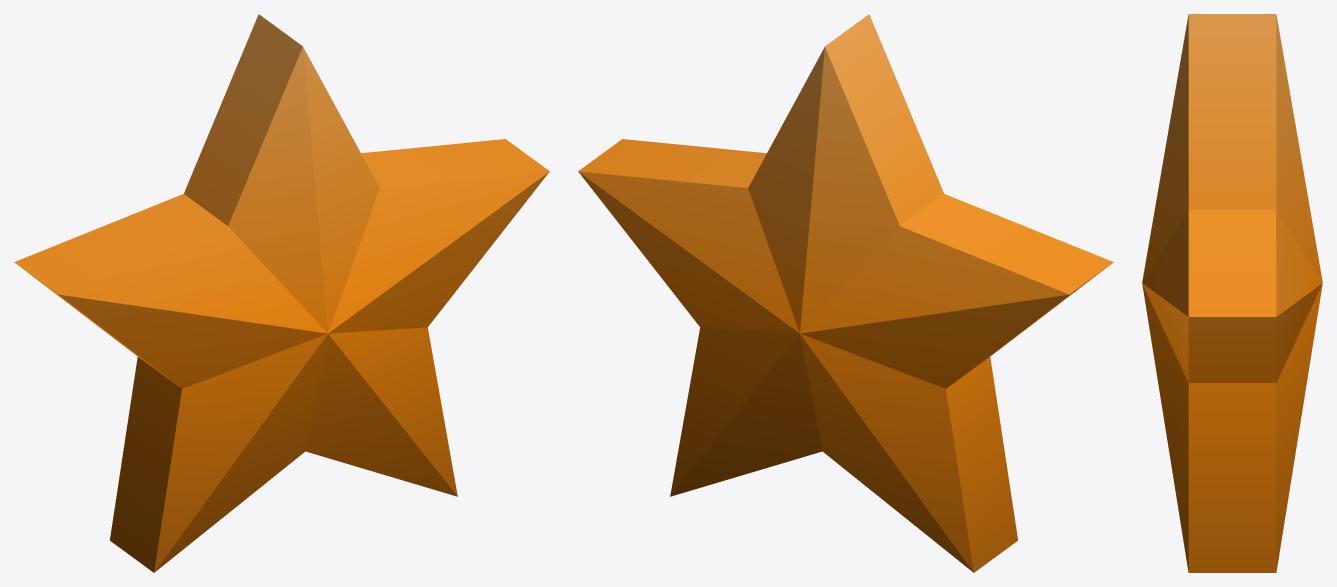
Rendered from Collectable_Star_02.fbx.
3 views of the same model, side by side, from view 1: azimuth 30°, elevation 25°; view 2: azimuth 150°, elevation 25°; view 3: azimuth 270°, elevation 25° (orthographic).
Parts seen in each view (by area): view 1: Collectable_Star_02; view 2: Collectable_Star_02; view 3: Collectable_Star_02.
Part boxes in pixels (x1=…): Collectable_Star_02: x1=14, y1=14, x2=549, y2=572; Collectable_Star_02: x1=578, y1=14, x2=1113, y2=572; Collectable_Star_02: x1=1142, y1=14, x2=1322, y2=572.
Size of the model in its own units: 75.18 by 71.65 by 24.14.
